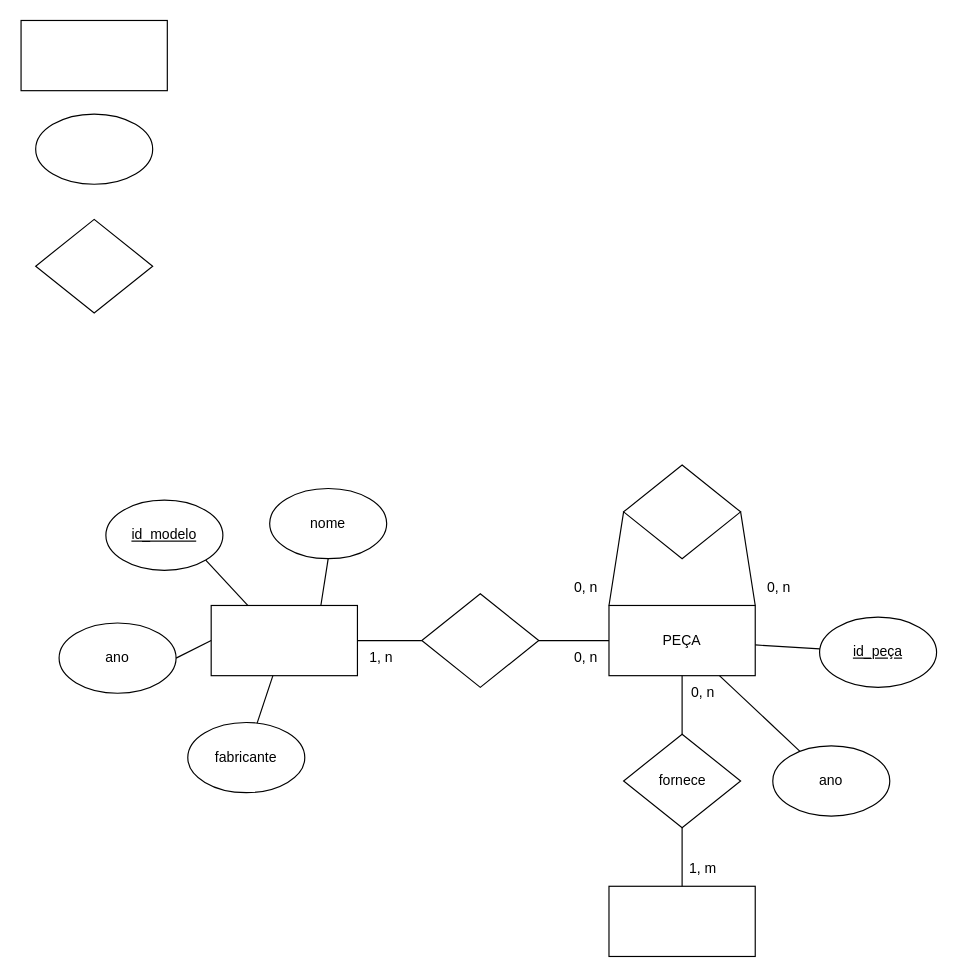
This 957x977 diagram has some shape labels left out. The centre of each missing label's shape, as x and y in pixels:
FORNECEDOR: point (681, 920)
MODELO_CARRO: point (283, 640)
suporta: point (681, 511)
tem: point (480, 640)
